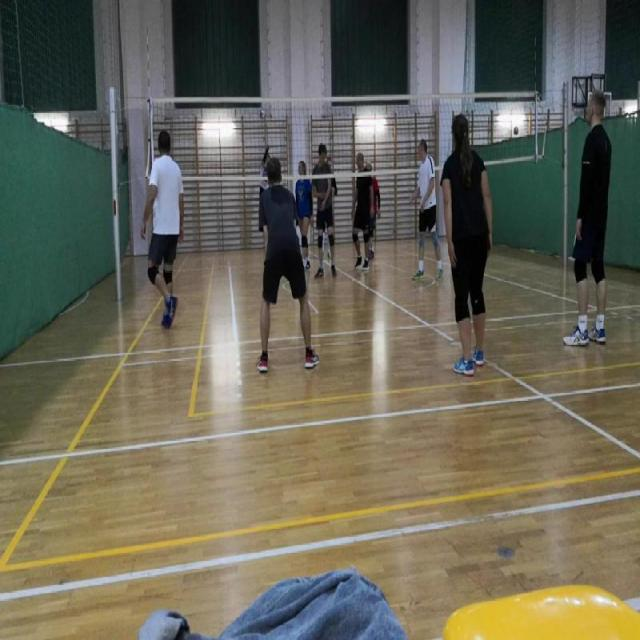volleyball: (260, 109, 264, 118)
